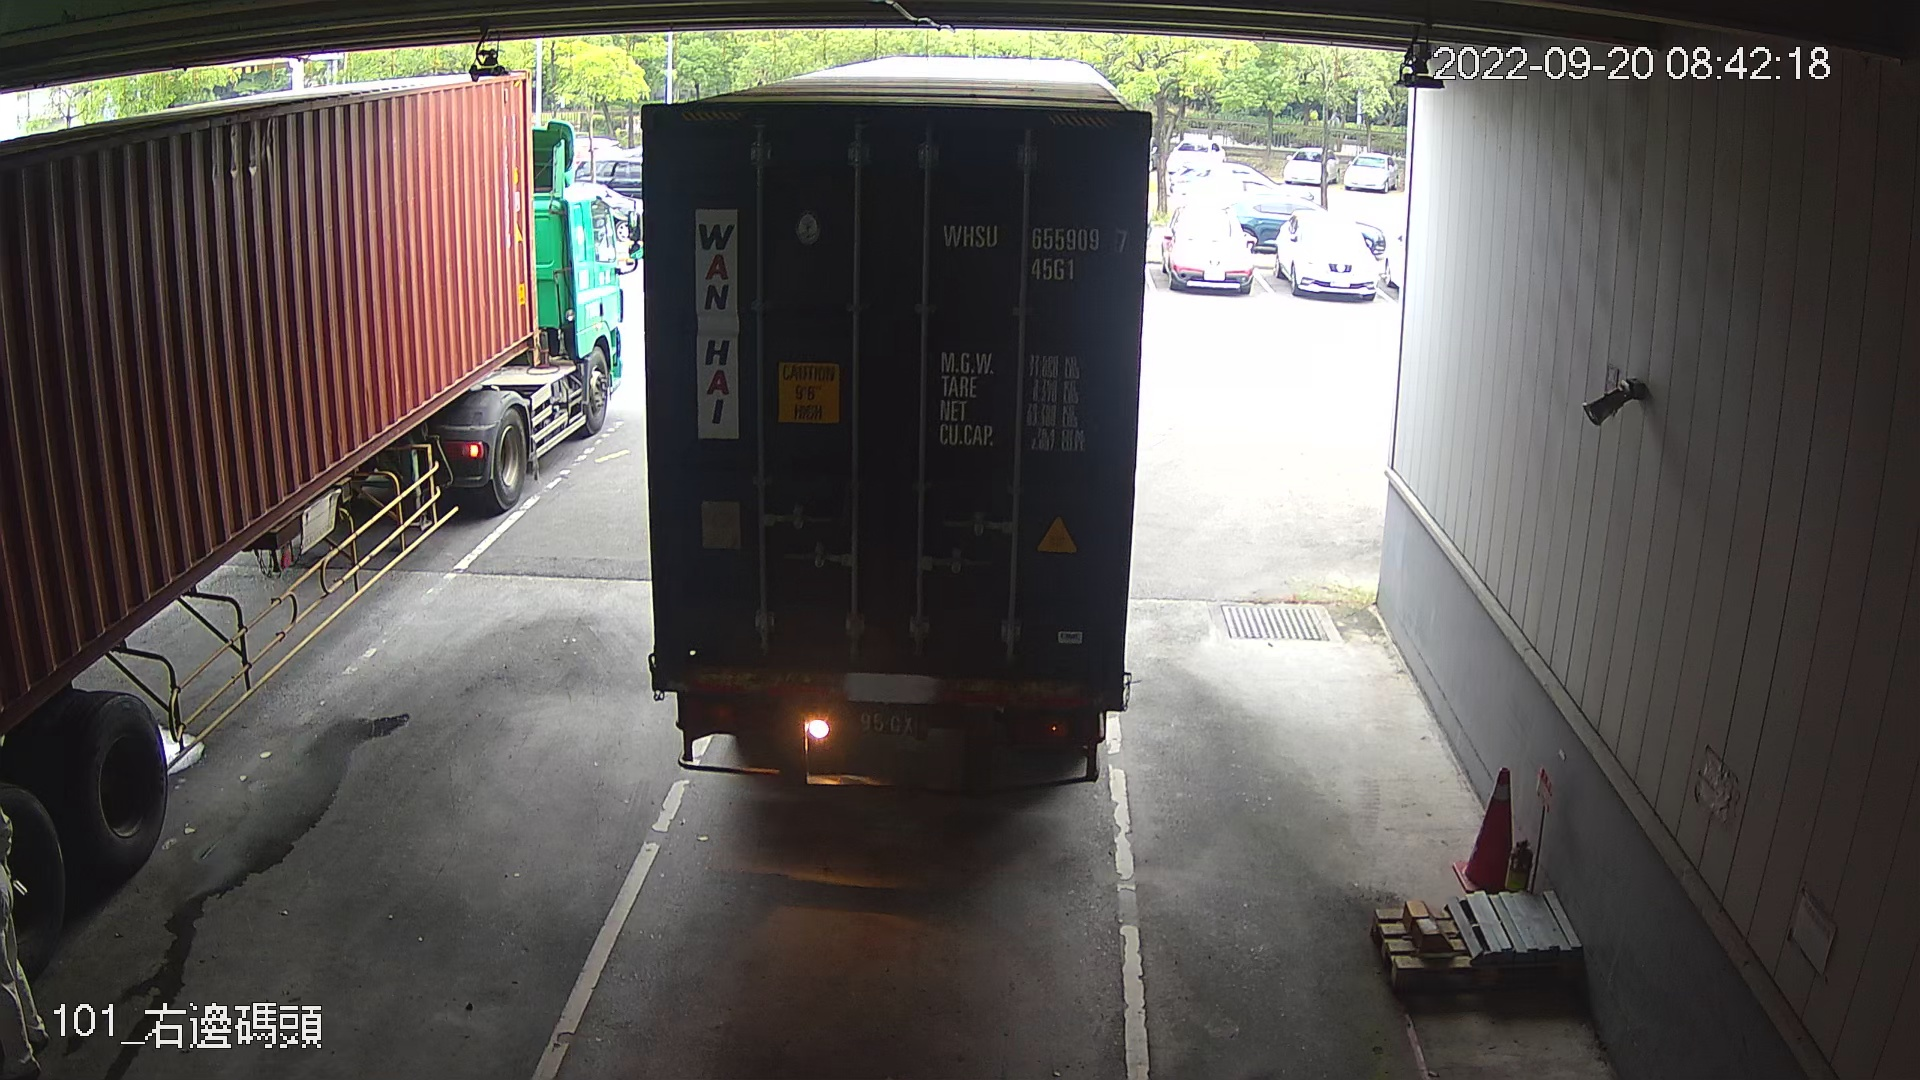container: (934, 214, 1138, 291)
